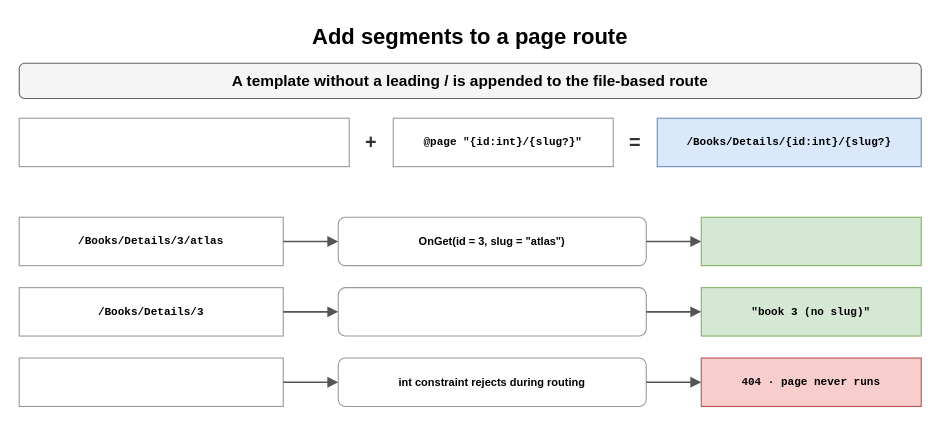
Some shapes in this 941 by 426 pixel diagram are drawn without their labels. The centre of each missing label's shape, as x and y in pixels:
"book 3 (atlas)": the point at 810,241
/Books/Details/three: the point at 150,381
OnGet(id = 3, slug = null): the point at 491,311
Pages/Books/Details.cshtml: the point at 183,142
